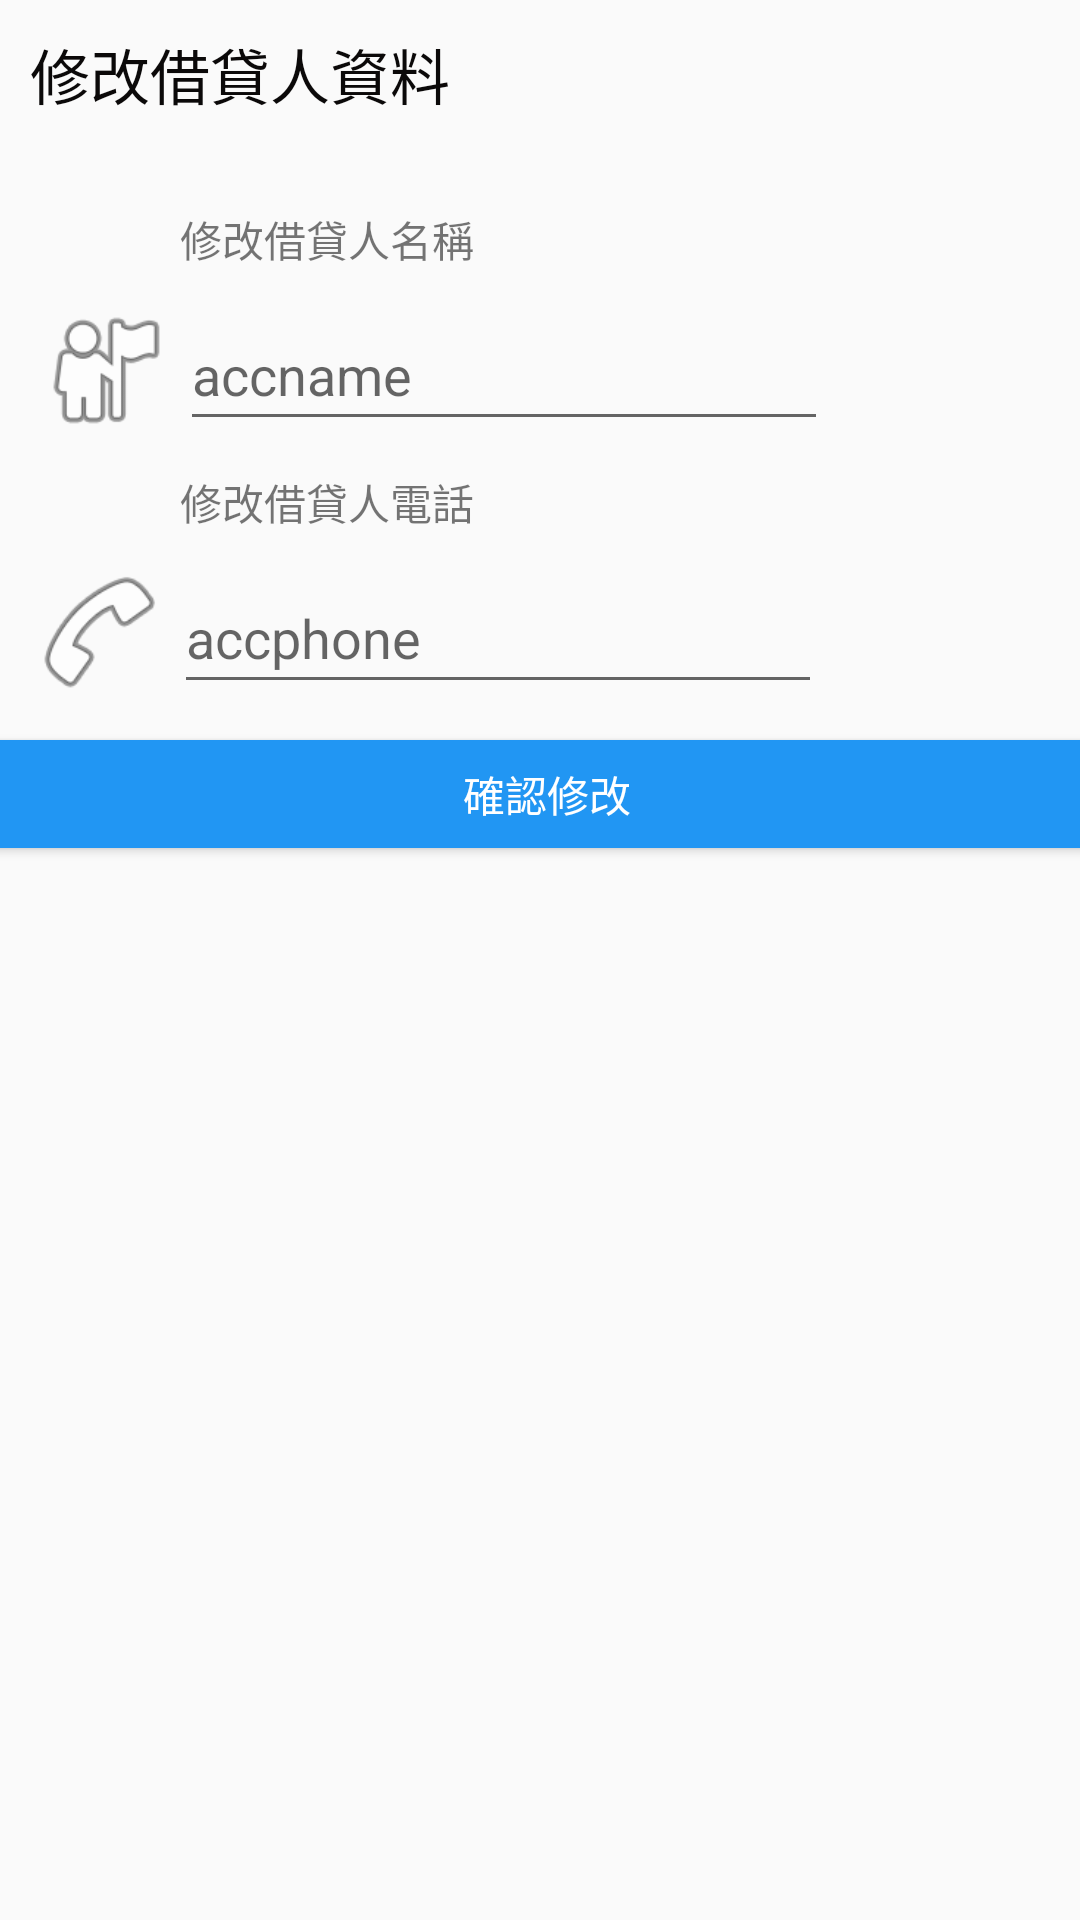

Icon bounding boxes for this 1080 × 1920 phone screenshot, format (x1=x1, y1=y1, x2=x2, y2=y2):
call: (x1=44, y1=577, x2=155, y2=687)
